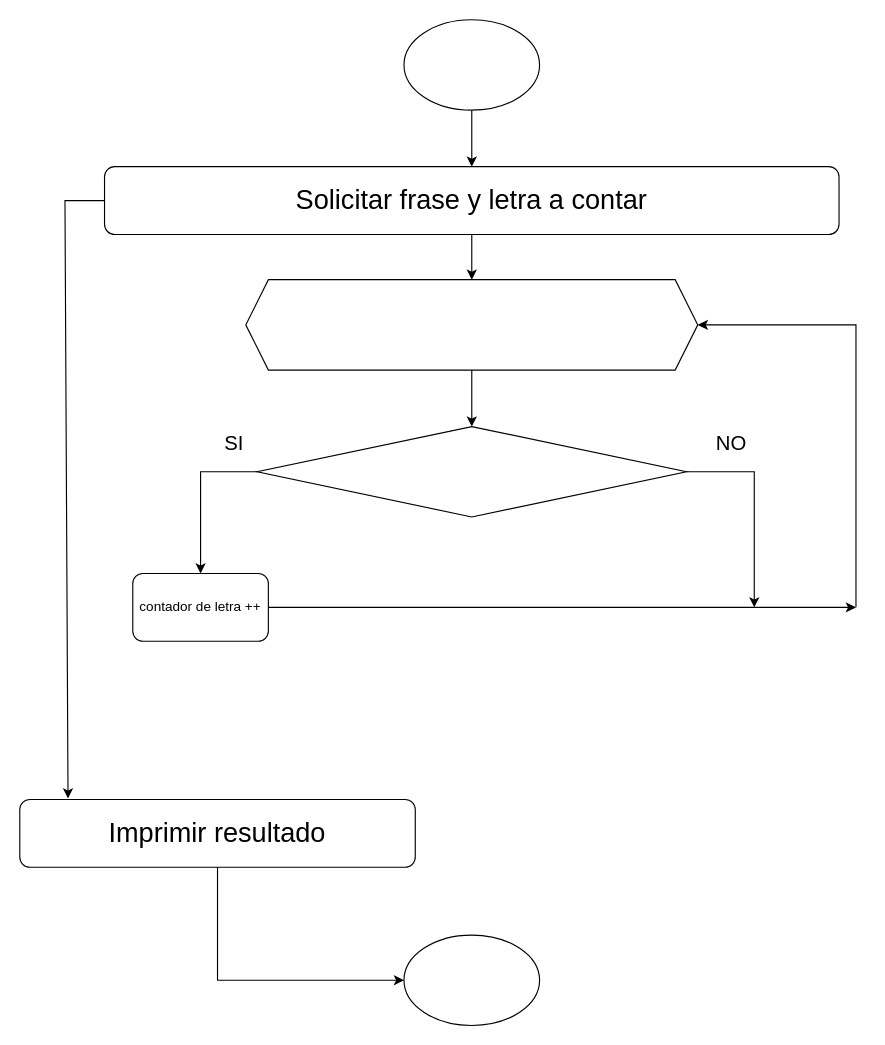
Image size: 885x1045. Some labels were removed from this diagram. Here are the shapes that lost their labels. From the top down, the centre of each, then its label:
At point 471,324: "i < (longitud de la frase)".
At point 471,471: "letra en la posicion i == letra a contar".
